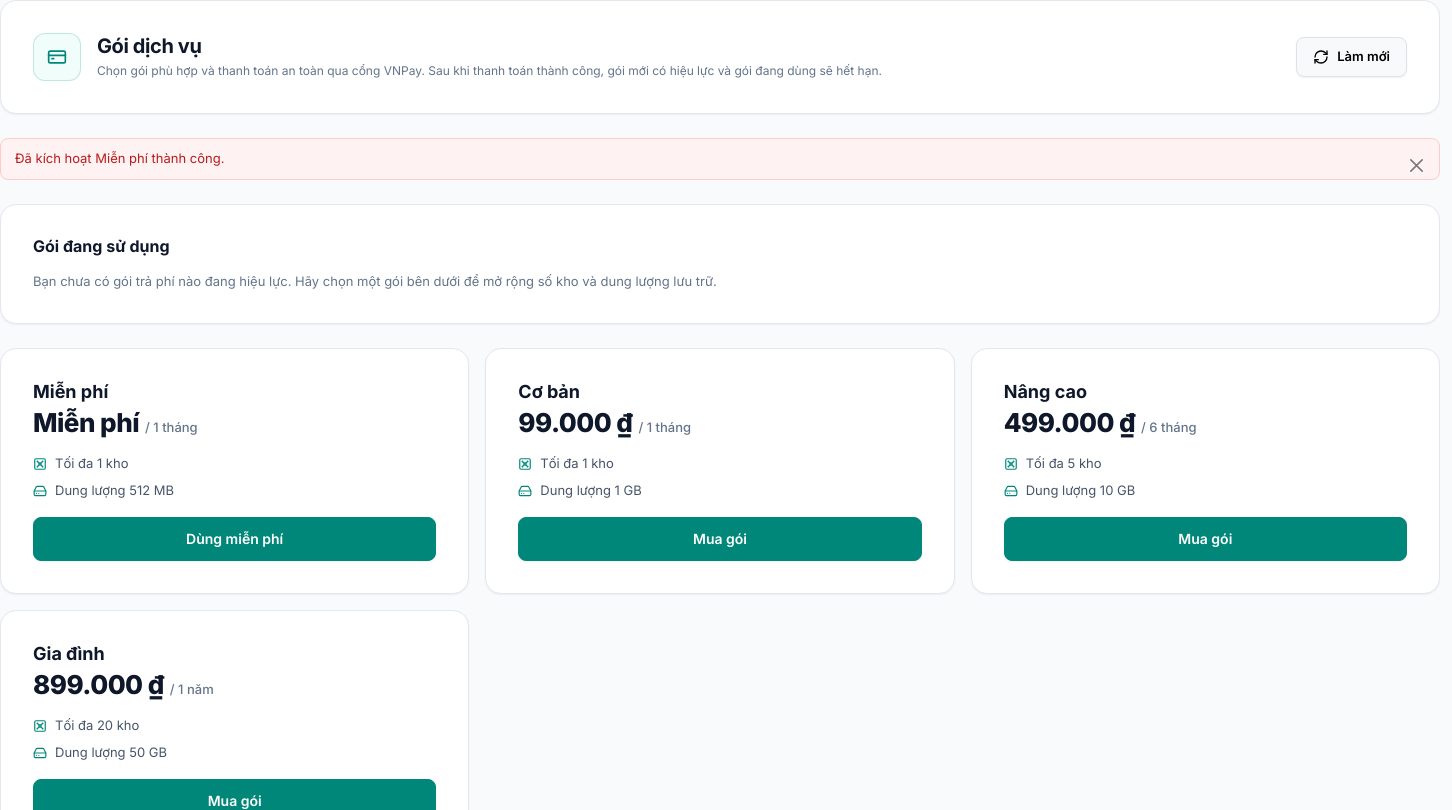
Scenario: OwnerPlansPage content › render_NoticeFromCheckout_ShowsDismissibleSuccessAlert
Expected: the message reads "Đã kích hoạt Miễn phí thành công.", [15,150,224,166]
Click the button named "close" at (1416, 166), box [1394,139,1439,192]
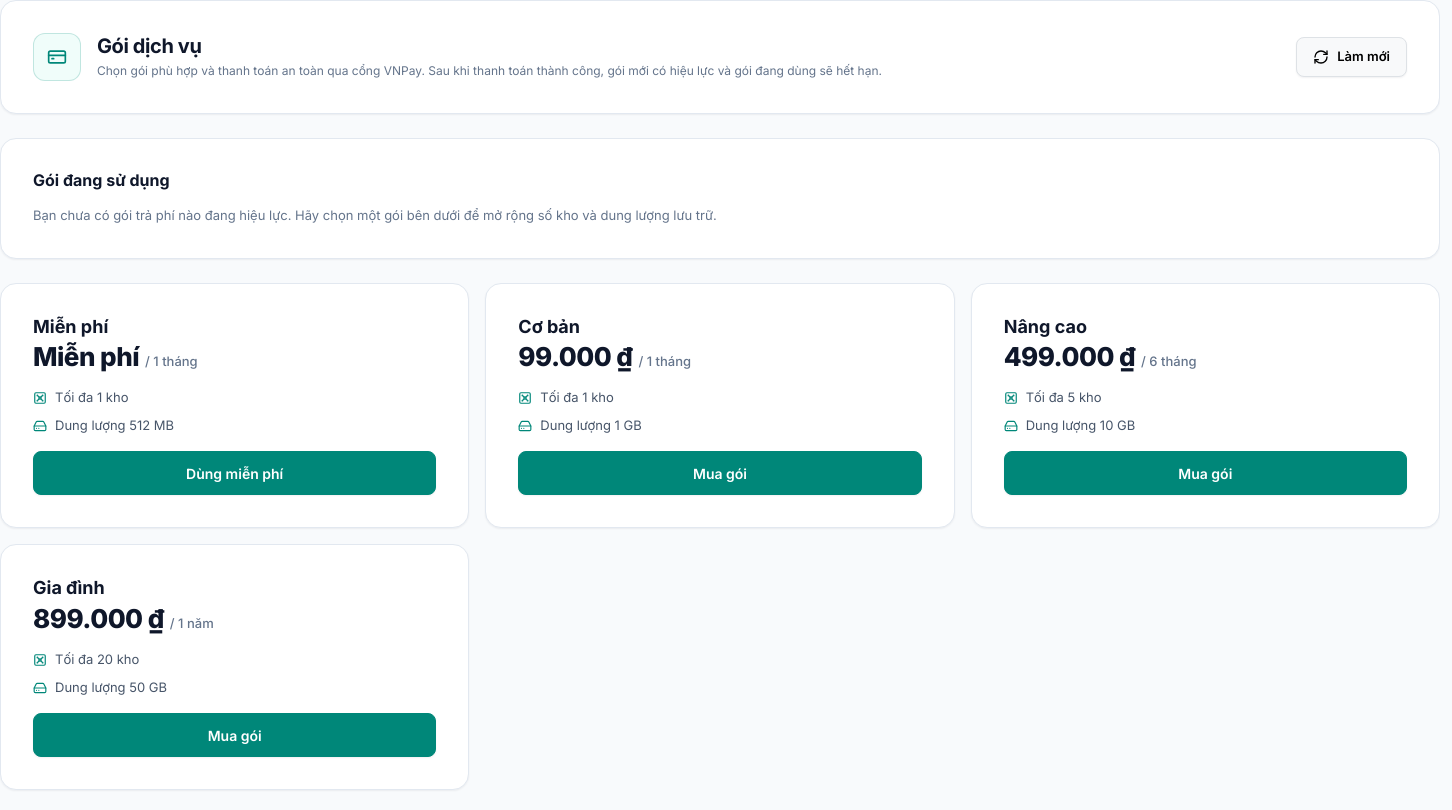
Expected: the text "Đã kích hoạt Miễn phí thành công." is gone
